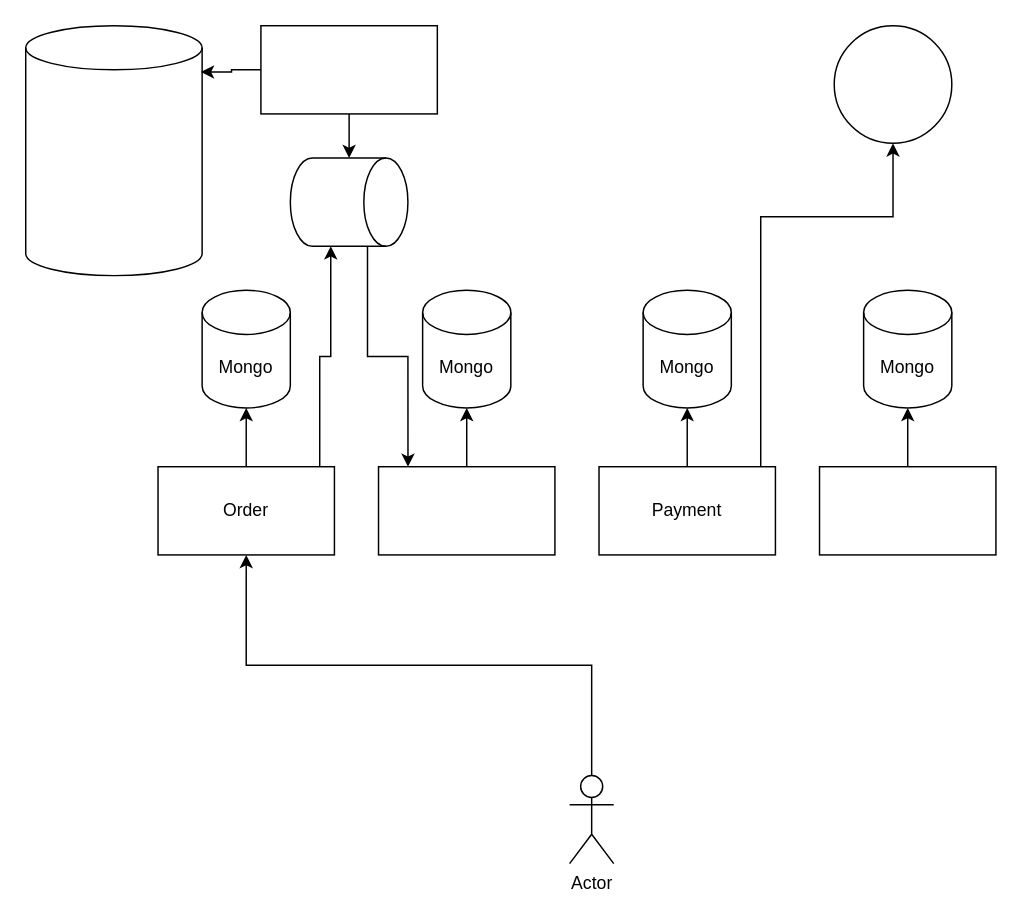
The diagram is 1022 pixels wide and 920 high, and some of its shapes have lost their labels. The centre of each missing label's shape, as x and y in pixels:
"Client" goes at (x=907, y=510).
"Delivery" goes at (x=466, y=510).
"Oracle" goes at (x=113, y=150).
